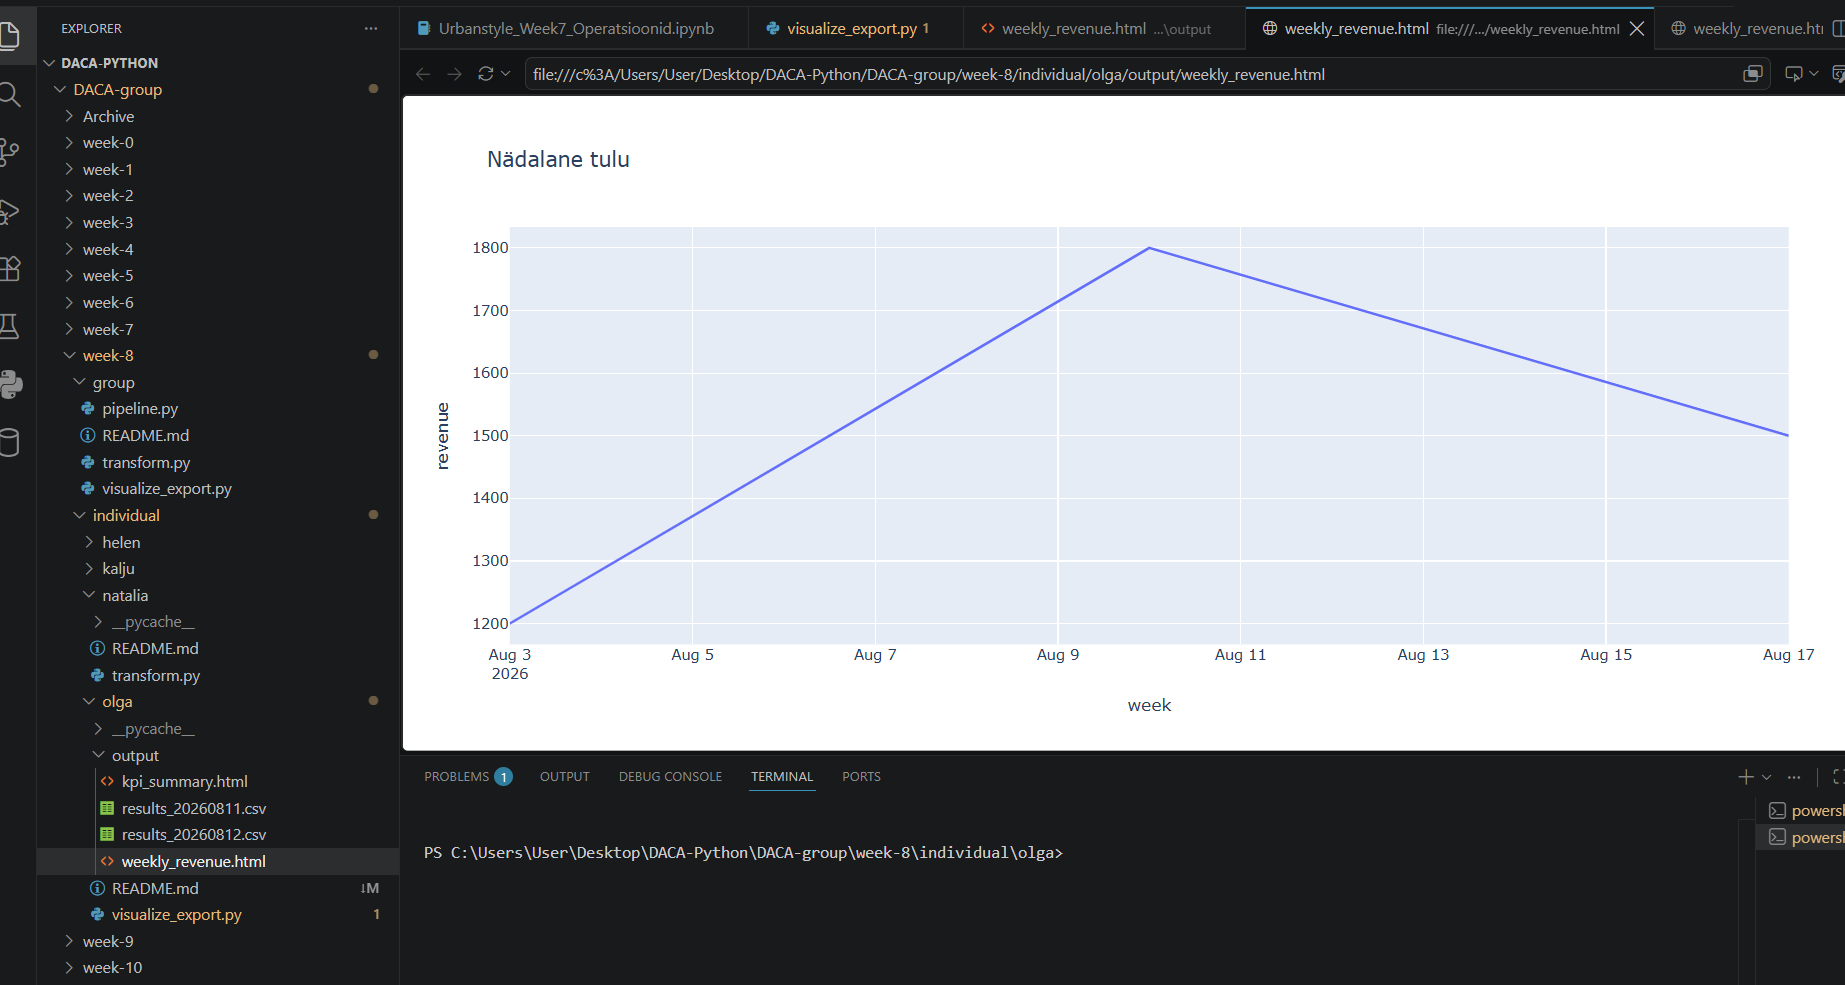

The page's visual inventory and layout, read from the dashboard file:
{"tool":"powerbi","page":{"name":"Olga_ise","canvas":[1280,720],"ordinal":0},"visuals":[{"type":"lineChart","fields":{"Category":["public sales.sale_date.Variation.Date Hierarchy.Year","public sales.sale_date.Variation.Date Hierarchy.Quarter","public sales.sale_date.Variation.Date Hierarchy.Month","public sales.sale_date.Variation.Date Hierarchy.Day"],"Y":["Sum(public sales.total_price)"]},"box":[10,0,280,280],"z":0}]}

Visuals, with their boxes on the page's 1280x720 design canvas (x1, y1, x2, y2). These are canvas units, not pixel positions in the 1845x985 screenshot, which may show the page scaled, cropped or inside an application window:
lineChart - public sales.sale_date.Variation.Date Hierarchy.Year x public sales.sale_date.Variation.Date Hierarchy.Quarter: [10,0,290,280]
